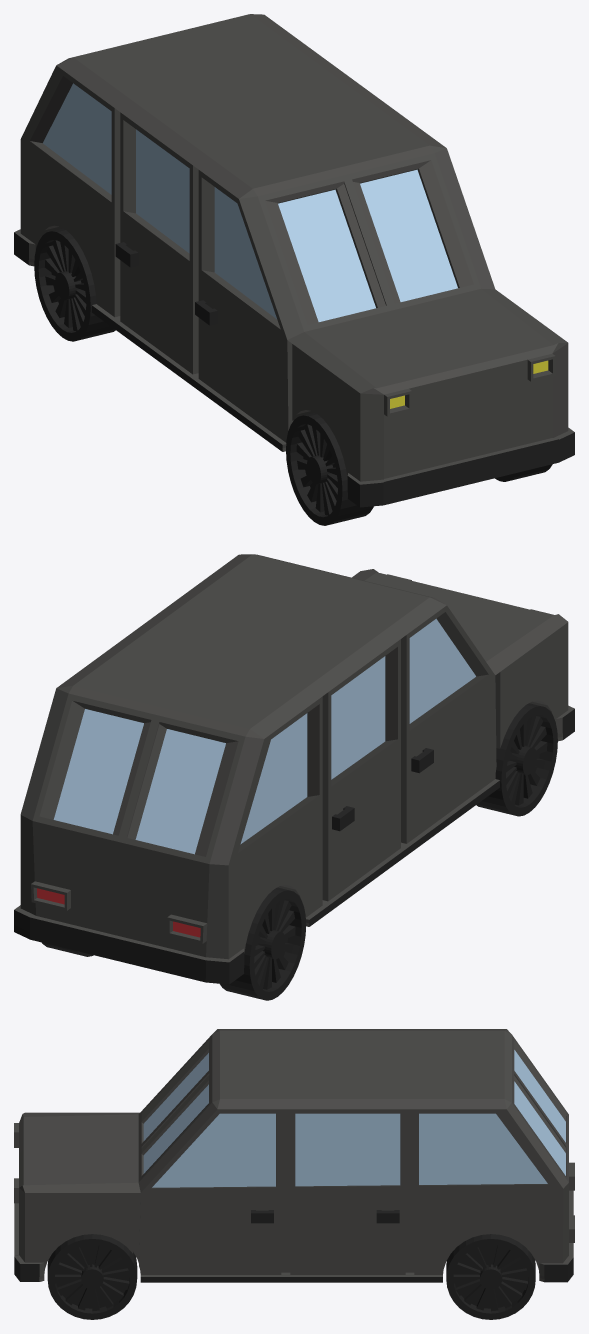
File: TestCarFBX.fbx
3 renders of one model, top to bottom at view 1: azimuth 30°, elevation 25°; view 2: azimuth 150°, elevation 25°; view 3: azimuth 270°, elevation 25°, orthographic. The views are drawn at different scales.
Visible parts, largest first — view 1: Cube; view 2: Cube; view 3: Cube.
Boxes of the visible parts, x1,y1,x2,y2 form: Cube: (14,14,574,525); Cube: (14,554,574,1000); Cube: (14,1029,574,1319).
Bounding box in the file's own units: 636 × 730 × 1739.
